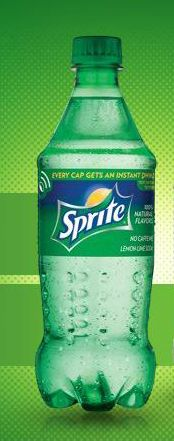sprite: (58, 196, 124, 241)
